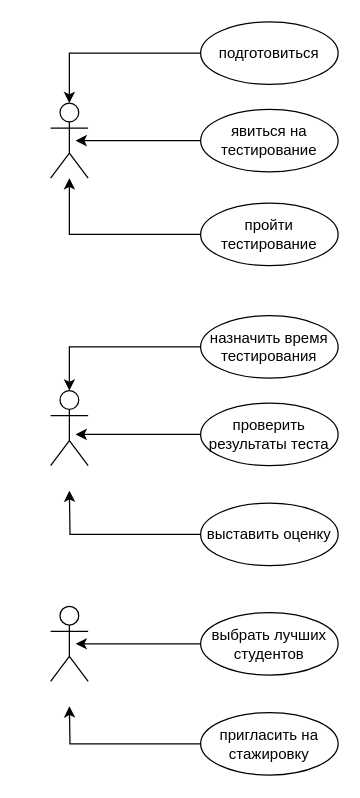
This 360x798 diagram has some shape labels left out. The shapes that lost their labels are listed below. From the top down, each one's centre as x and y in pixels, then its label:
At point (68, 140): "Студент".
At point (68, 427): "Специалист".
At point (68, 643): "Руководитель".
